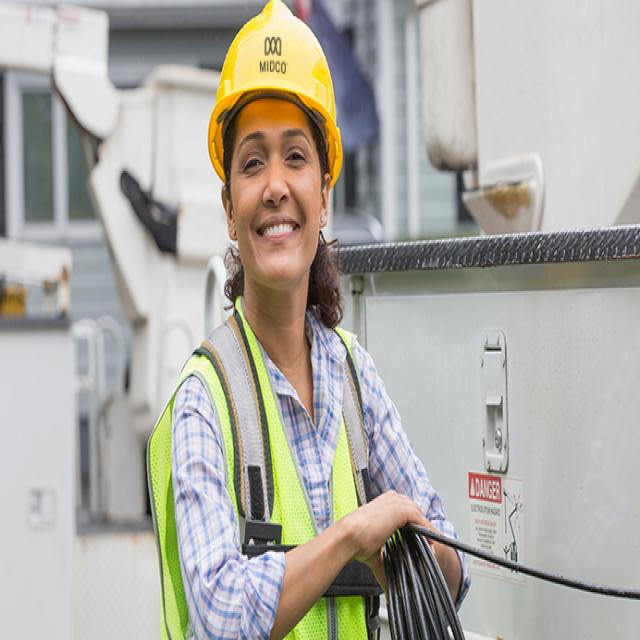Reflective-Jacket: (144, 299, 385, 640)
Safety-Helmet: (205, 5, 343, 184)
